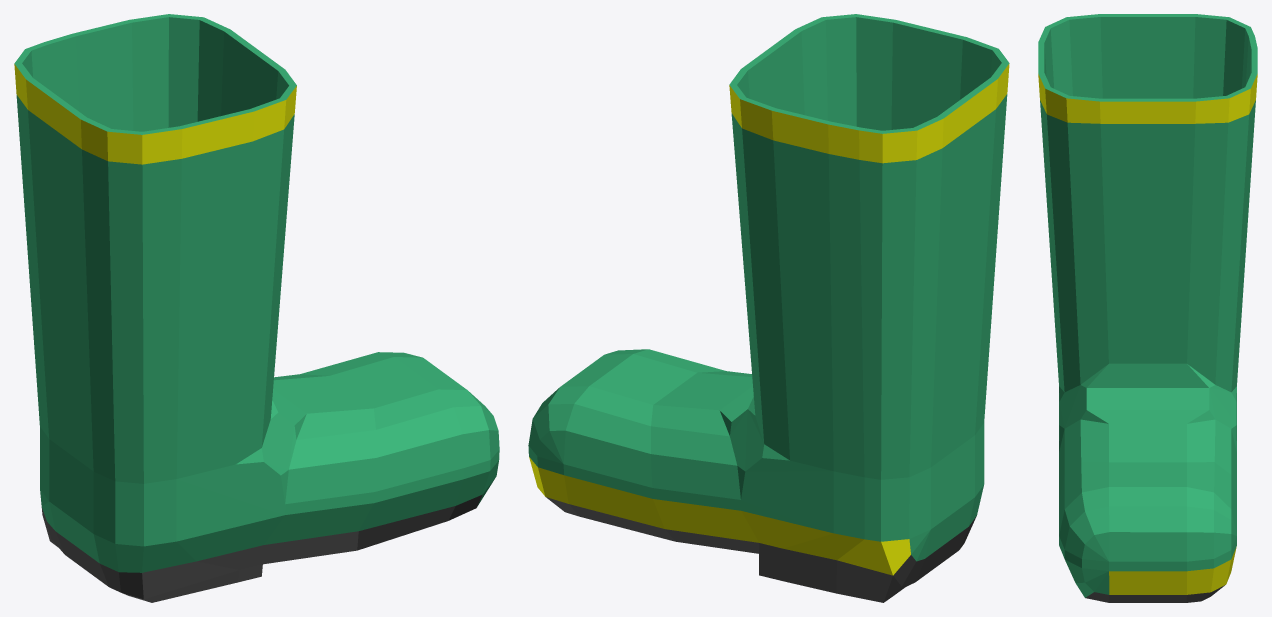
Rendered from boot_right.glb.
3 views of the same model, side by side, from view 1: azimuth 30°, elevation 25°; view 2: azimuth 150°, elevation 25°; view 3: azimuth 270°, elevation 25° (orthographic). The views are drawn at different scales.
Visible parts, largest first — view 1: Box002; view 2: Box002; view 3: Box002.
Boxes of the visible parts, x1=… form: Box002: x1=14, y1=14, x2=499, y2=602; Box002: x1=528, y1=14, x2=1009, y2=602; Box002: x1=1038, y1=14, x2=1257, y2=602.
Bounding box in the file's own units: 0.3016 × 0.34 × 0.1577.
